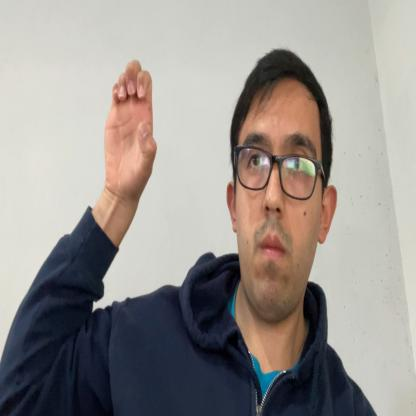E: (103, 57, 158, 200)
